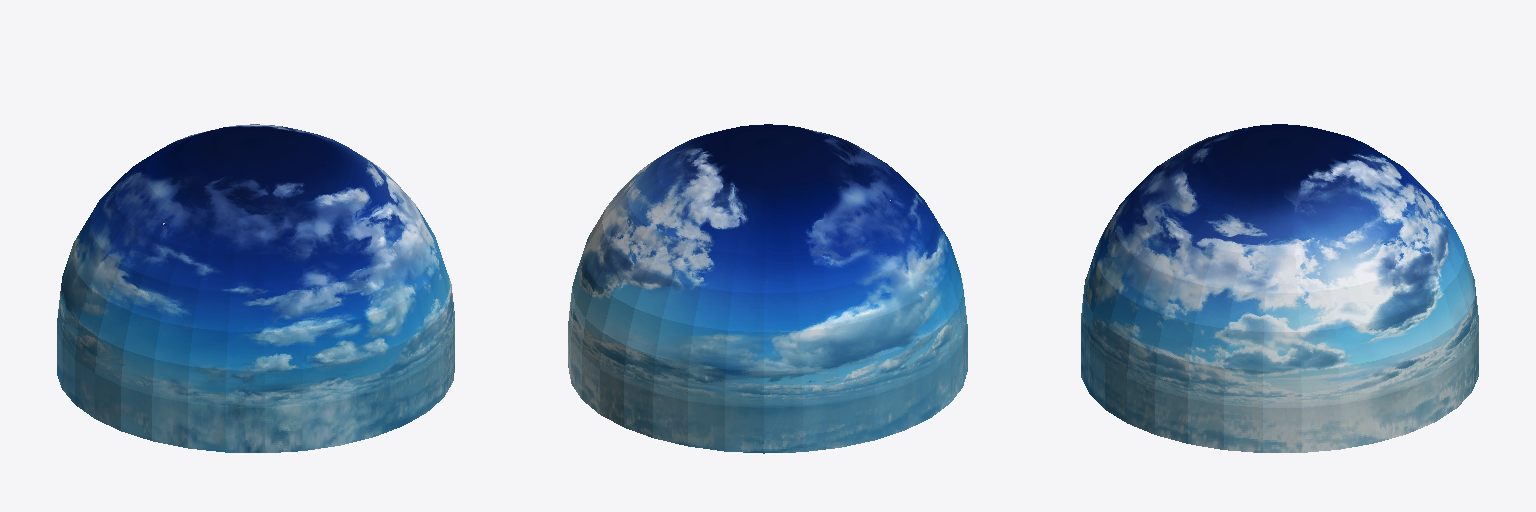
The picture shows the model from 3 angles: view 1: azimuth 30°, elevation 25°; view 2: azimuth 150°, elevation 25°; view 3: azimuth 270°, elevation 25°; orthographic projection.
Parts seen in each view (by area): view 1: polygon0, polygon1; view 2: polygon0; view 3: polygon0, polygon1.
Part boxes in pixels (x1,y1,x2,y2): polygon0: (57,124,454,440); polygon1: (152,280,373,452); polygon0: (568,124,967,453); polygon0: (1081,124,1478,452); polygon1: (1081,205,1119,332).
Size of the model in its own units: 27133 by 17033 by 27133.
Materials: 3 (1 with a texture image).